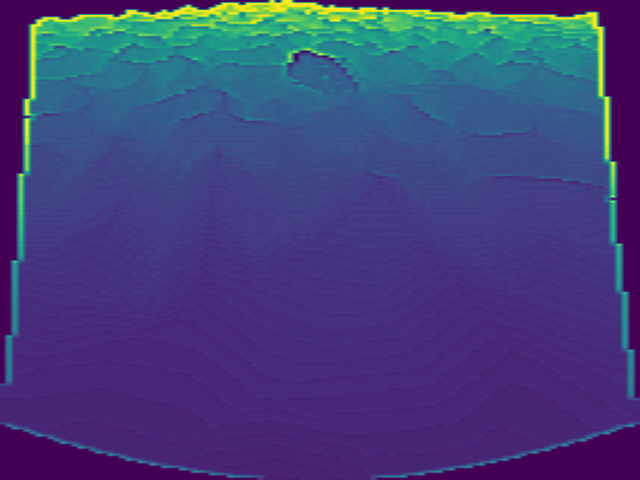car_0198: (285, 49, 359, 95)
